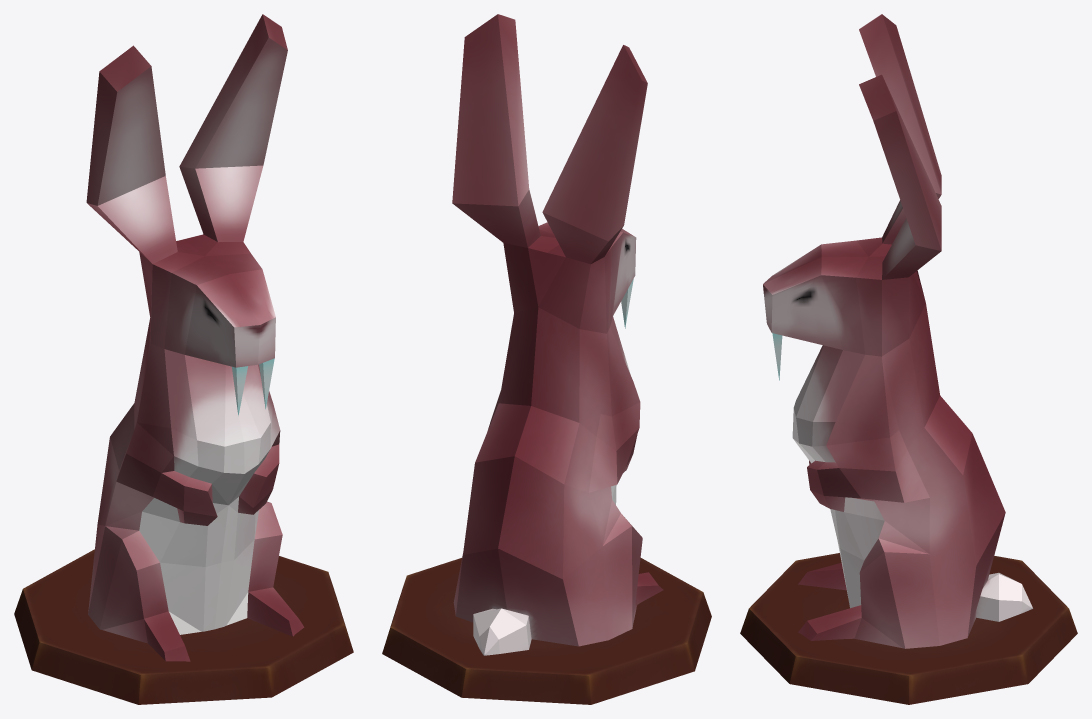
File: Asset_Enemy_Jacob.fbx
The picture shows the model from 3 angles, left to right: view 1: azimuth 30°, elevation 25°; view 2: azimuth 150°, elevation 25°; view 3: azimuth 270°, elevation 25°; orthographic projection. The views are drawn at different scales.
Parts seen in each view (by area): view 1: jacob_body, jacob_stand; view 2: jacob_body, jacob_stand; view 3: jacob_body, jacob_stand.
Boxes of the visible parts, x1=… form: jacob_body: x1=86, y1=14, x2=304, y2=661; jacob_stand: x1=14, y1=549, x2=353, y2=704; jacob_body: x1=452, y1=14, x2=663, y2=655; jacob_stand: x1=382, y1=558, x2=711, y2=704; jacob_body: x1=763, y1=14, x2=1032, y2=648; jacob_stand: x1=740, y1=553, x2=1077, y2=704.
Size of the model in its own units: 31.55 by 60.75 by 31.55.
